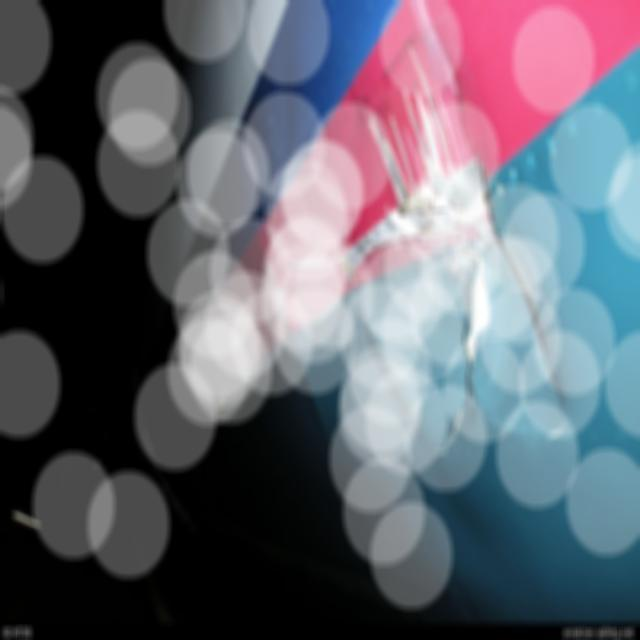crack: (434, 258, 496, 458)
